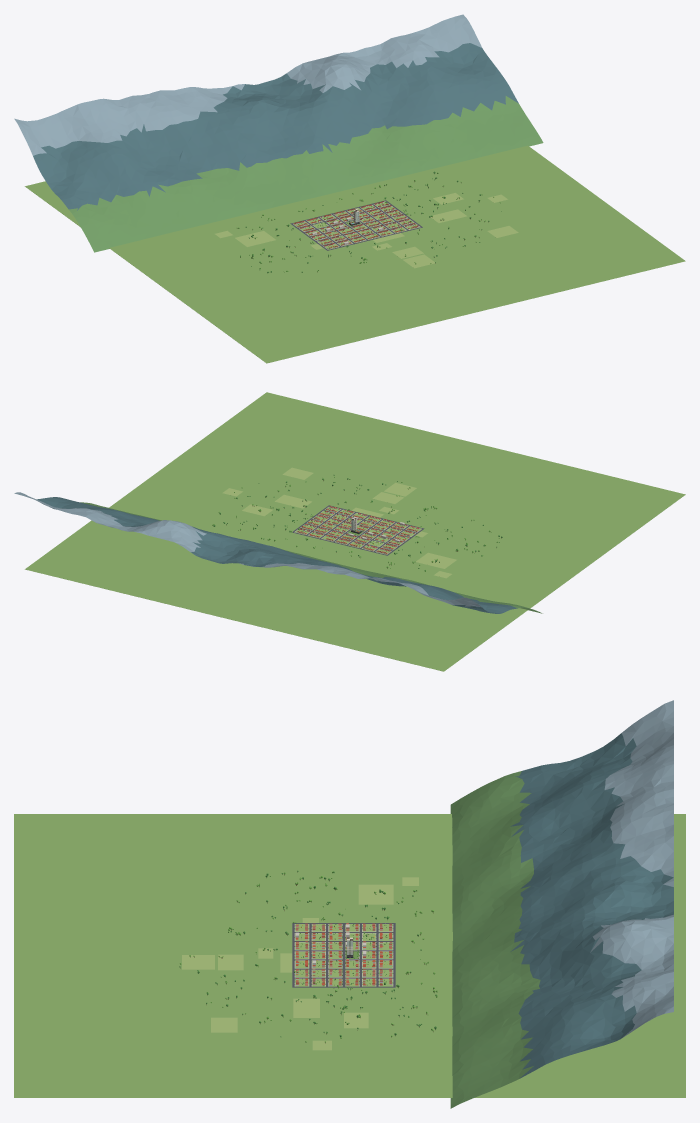
Rendered from alto-do-pedregulho.glb.
3 views of the same model, one above another, from view 1: azimuth 30°, elevation 25°; view 2: azimuth 150°, elevation 25°; view 3: azimuth 270°, elevation 25° (orthographic). The views are drawn at different scales.
Parts seen in each view (by area): view 1: Paisagem_grama, Paisagem_serra_alta, Paisagem_serra, Paisagem_serra_topo, Paisagem_campo, Paisagem_lote, Paisagem_asfalto, Paisagem_calcada, Paisagem_telhado; view 2: Paisagem_grama, Paisagem_serra_alta, Paisagem_serra_topo, Paisagem_campo, Paisagem_lote, Paisagem_asfalto, Paisagem_calcada, Paisagem_telhado, Paisagem_serra; view 3: Paisagem_grama, Paisagem_serra_alta, Paisagem_serra, Paisagem_serra_topo, Paisagem_campo, Paisagem_lote, Paisagem_asfalto, Paisagem_calcada, Paisagem_telhado, Paisagem_arvore, Paisagem_arvore_2, Paisagem_telhado_2.
Boxes of the visible parts, x1,y1,x2,y2 form: Paisagem_grama: [25, 145, 685, 363]; Paisagem_serra_alta: [33, 43, 518, 210]; Paisagem_serra: [69, 96, 543, 252]; Paisagem_serra_topo: [14, 14, 481, 155]; Paisagem_campo: [215, 193, 518, 268]; Paisagem_lote: [293, 201, 419, 249]; Paisagem_asfalto: [290, 200, 422, 250]; Paisagem_calcada: [293, 201, 420, 249]; Paisagem_telhado: [294, 202, 417, 247]; Paisagem_grama: [25, 392, 685, 671]; Paisagem_serra_alta: [37, 497, 517, 613]; Paisagem_serra_topo: [14, 492, 481, 607]; Paisagem_campo: [222, 467, 456, 578]; Paisagem_lote: [295, 507, 421, 554]; Paisagem_asfalto: [292, 505, 424, 555]; Paisagem_calcada: [294, 507, 421, 554]; Paisagem_telhado: [299, 506, 419, 553]; Paisagem_serra: [80, 502, 542, 613]; Paisagem_grama: [14, 814, 685, 1097]; Paisagem_serra_alta: [510, 733, 673, 1078]; Paisagem_serra: [450, 771, 540, 1108]; Paisagem_serra_topo: [590, 700, 673, 1038]; Paisagem_campo: [182, 877, 418, 1050]; Paisagem_lote: [295, 924, 392, 986]; Paisagem_asfalto: [292, 923, 395, 987]; Paisagem_calcada: [294, 924, 393, 986]; Paisagem_telhado: [296, 923, 391, 985]; Paisagem_arvore: [179, 870, 437, 1037]; Paisagem_arvore_2: [180, 871, 437, 1042]; Paisagem_telhado_2: [296, 923, 391, 985].
Bounding box in the file's own units: 3000 × 480 × 2800.
